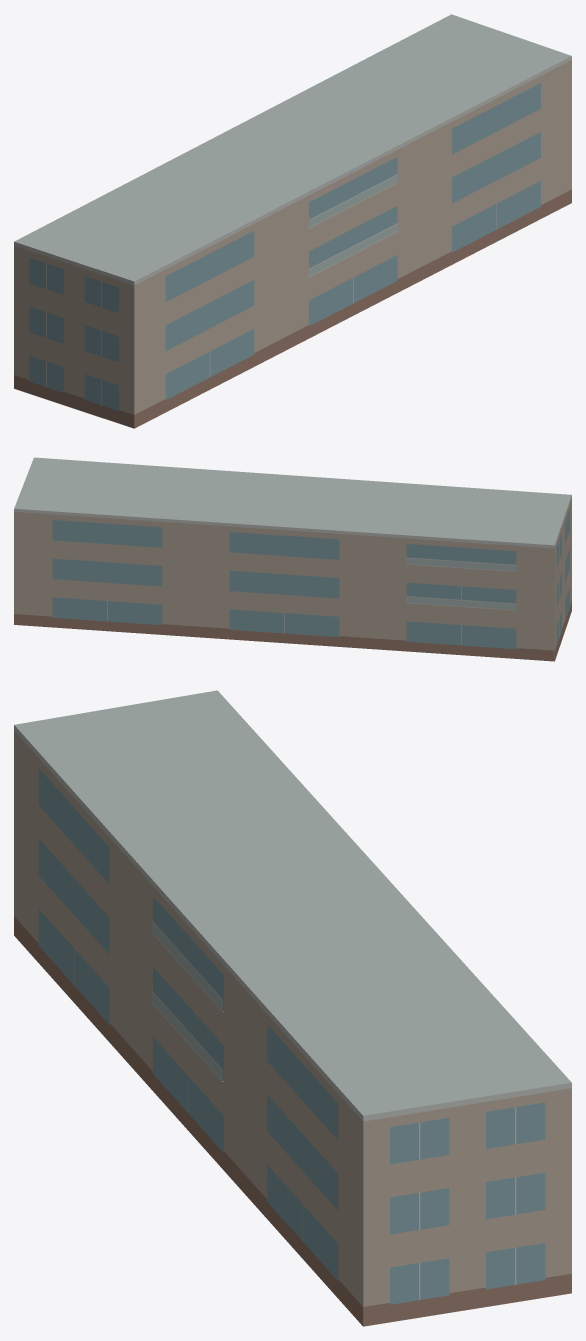
Rendered from survey-upis-32731638.glb.
The picture shows the model from 3 angles, top to bottom: view 1: azimuth 30°, elevation 25°; view 2: azimuth 150°, elevation 25°; view 3: azimuth 270°, elevation 25°; orthographic projection. The views are drawn at different scales.
Visible parts, largest first — view 1: survey-upis-32731638.tmp; view 2: survey-upis-32731638.tmp; view 3: survey-upis-32731638.tmp.
Part boxes in pixels (box(x1,y1,x2,y2)): survey-upis-32731638.tmp: box(14, 14, 571, 428); survey-upis-32731638.tmp: box(14, 457, 571, 661); survey-upis-32731638.tmp: box(14, 690, 571, 1326).
Size of the model in its own units: 39.64 by 9.15 by 21.96.
